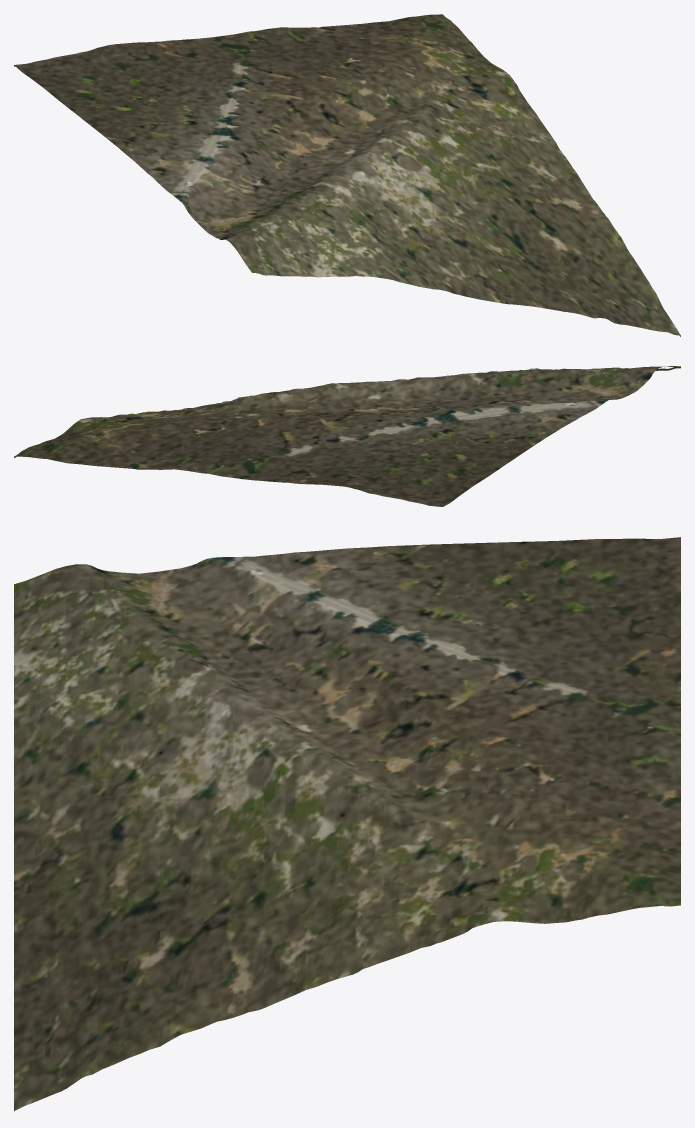
3 renders of one model, top to bottom at view 1: azimuth 30°, elevation 25°; view 2: azimuth 150°, elevation 25°; view 3: azimuth 270°, elevation 25°, orthographic. The views are drawn at different scales.
Bounding box in the file's own units: 250 × 113 × 241.
Materials: 1 (1 with a texture image).
